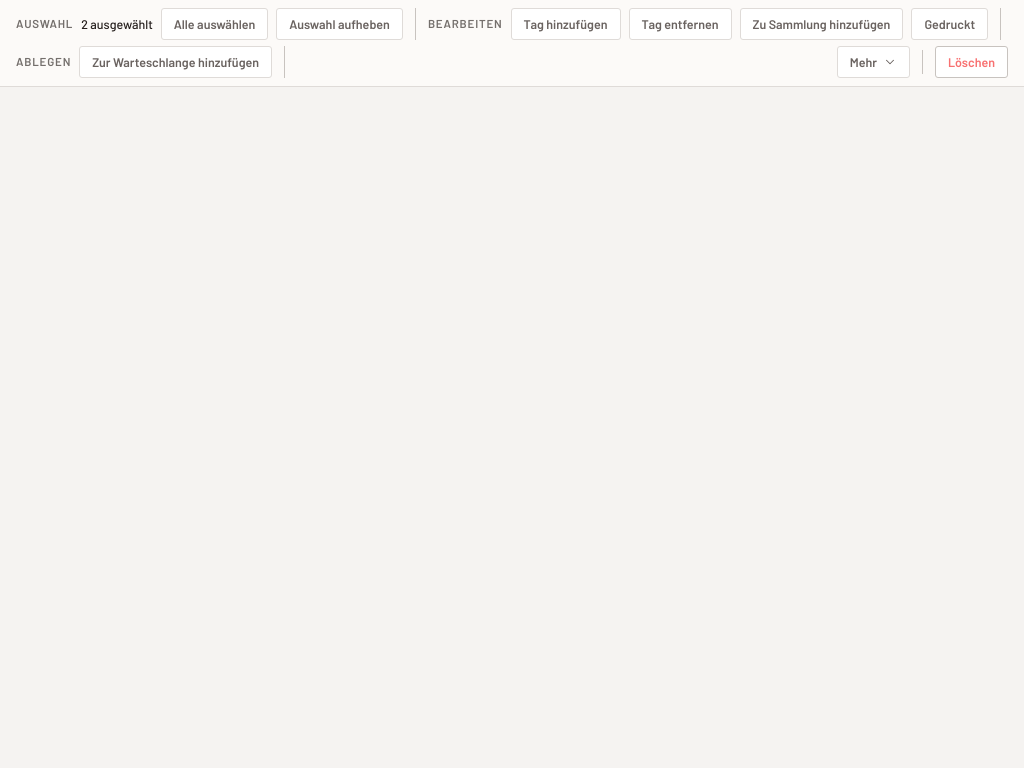
Test: date rename entry in the selection bar › closes the dialog and reports the outcome after applying
The width and height of the screenshot is (1024, 768).
Click the button "Mehr".
click(873, 62)  # box left=837, top=46, right=910, bottom=78
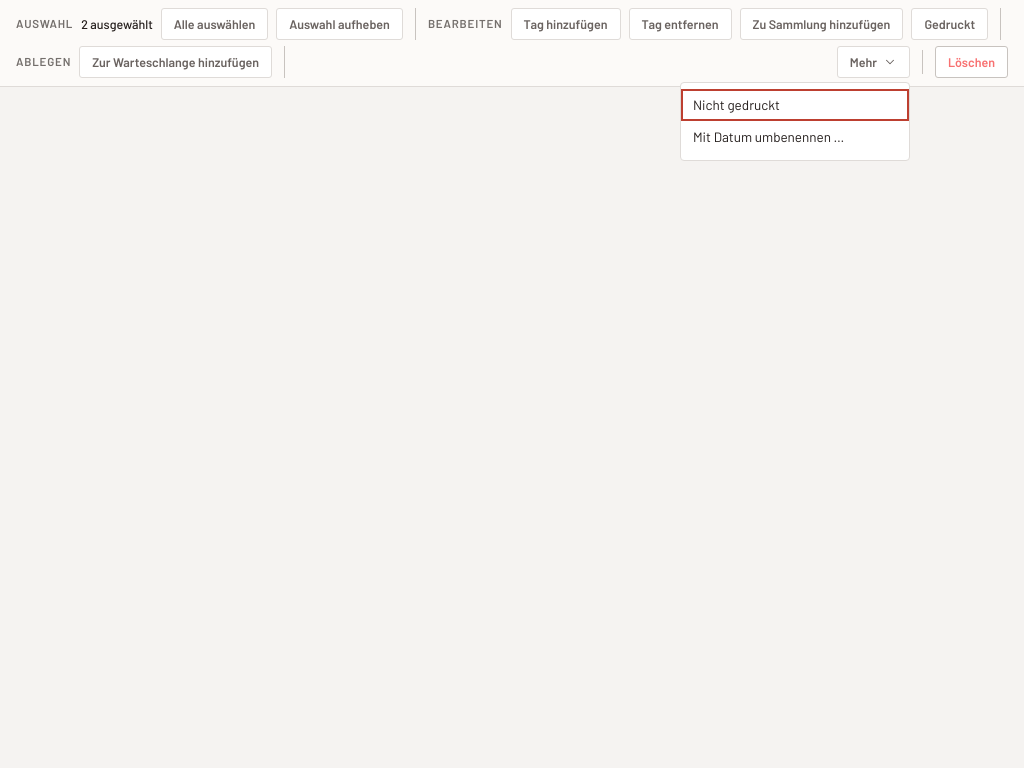
Click the menu item "Mit Datum umbenennen …".
click(795, 137)  # box left=681, top=121, right=909, bottom=154
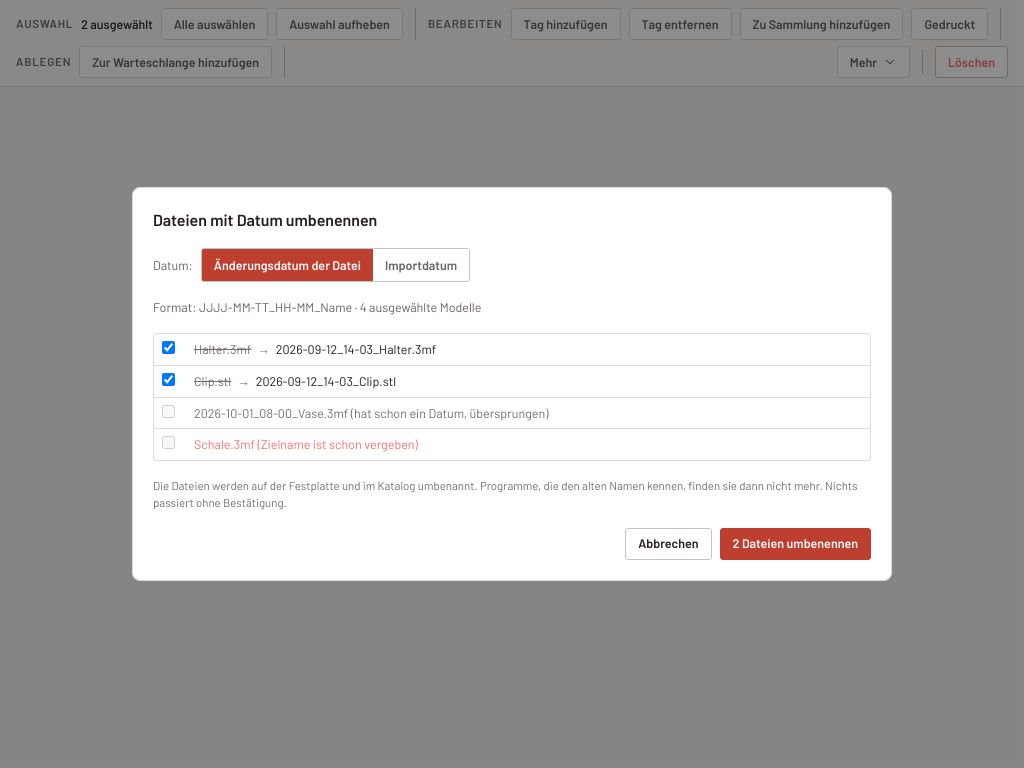
Expected: the text "2026-09-12_14-03_Halter.3mf" is shown, left=276, top=341, right=436, bottom=357
Click the button "2 Dateien umbenennen".
click(795, 544)  # box left=720, top=528, right=871, bottom=560
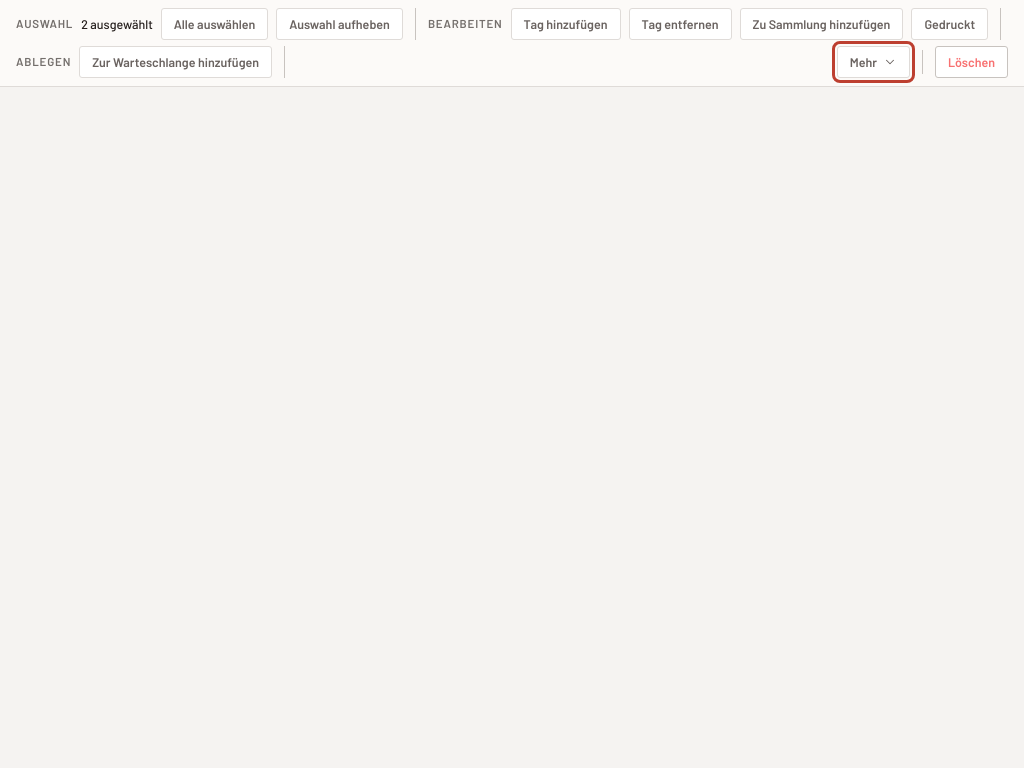
Expected: the dialog is gone
